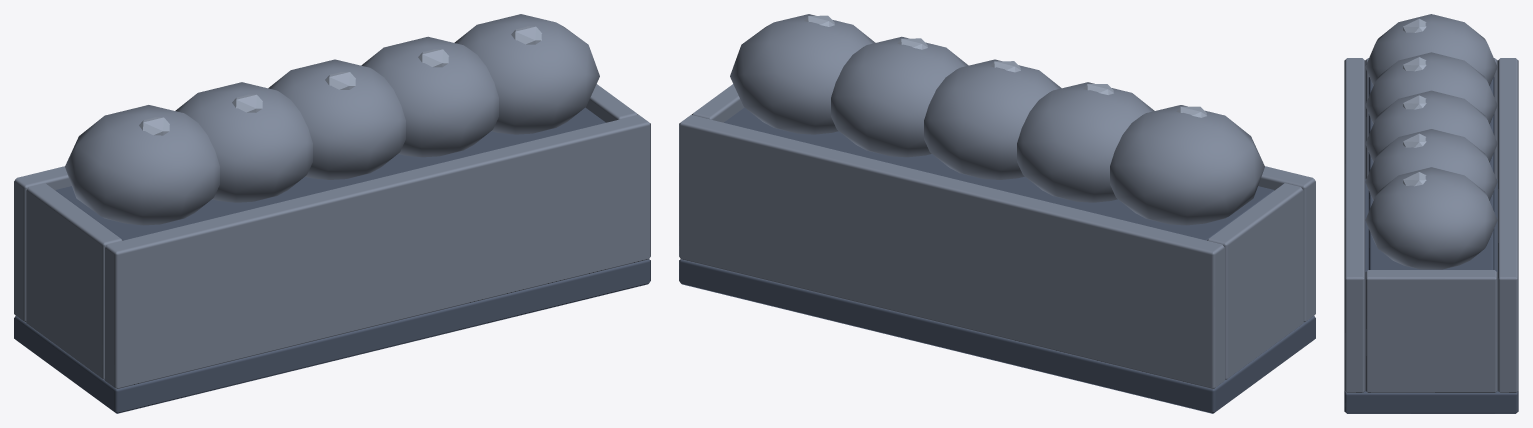
File: 长条花箱-lite.glb
3 views of the same model, side by side, from view 1: azimuth 30°, elevation 25°; view 2: azimuth 150°, elevation 25°; view 3: azimuth 270°, elevation 25° (orthographic). The views are drawn at different scales.
Visible parts, largest first — view 1: garden-planter; view 2: garden-planter; view 3: garden-planter.
Boxes of the visible parts, x1=… form: garden-planter: x1=14, y1=14, x2=650, y2=413; garden-planter: x1=679, y1=14, x2=1315, y2=413; garden-planter: x1=1344, y1=14, x2=1518, y2=413.
Size of the model in its own units: 1.5 by 0.65 by 0.5.
